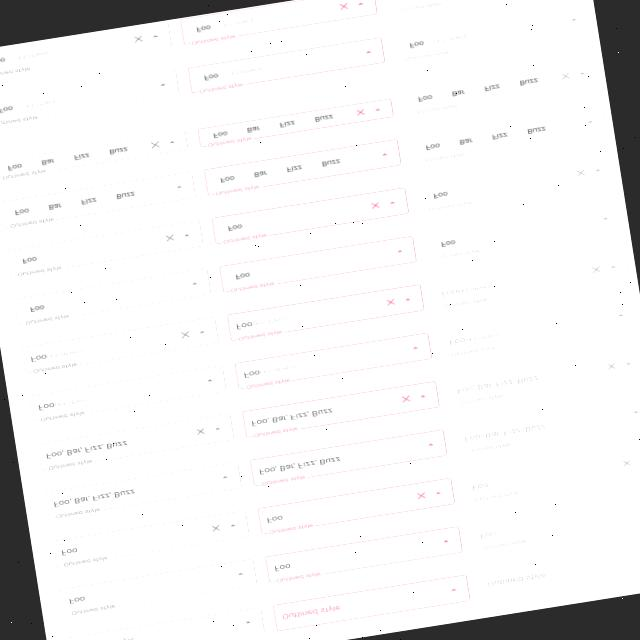VCombobox: (18, 314, 222, 378), (391, 1, 594, 64), (218, 233, 420, 296), (430, 249, 632, 312), (264, 524, 466, 586), (3, 218, 205, 280), (400, 56, 602, 118), (186, 34, 388, 96), (12, 266, 213, 328), (408, 104, 609, 166), (36, 412, 236, 474), (226, 282, 426, 344), (232, 331, 435, 392), (438, 298, 640, 359), (239, 379, 441, 440), (209, 186, 411, 247), (445, 345, 640, 408), (416, 153, 616, 214), (247, 428, 450, 488), (57, 558, 259, 618), (42, 461, 244, 521), (26, 364, 228, 424), (0, 170, 198, 231), (423, 202, 624, 262), (202, 138, 403, 198), (52, 508, 252, 568), (258, 476, 458, 536), (271, 574, 473, 632), (453, 395, 640, 456), (0, 67, 181, 128), (461, 443, 640, 504), (196, 96, 396, 150), (0, 20, 174, 81), (469, 492, 640, 552), (0, 129, 190, 183), (177, 0, 379, 48), (477, 540, 640, 599), (64, 605, 266, 640), (383, 0, 584, 15)
